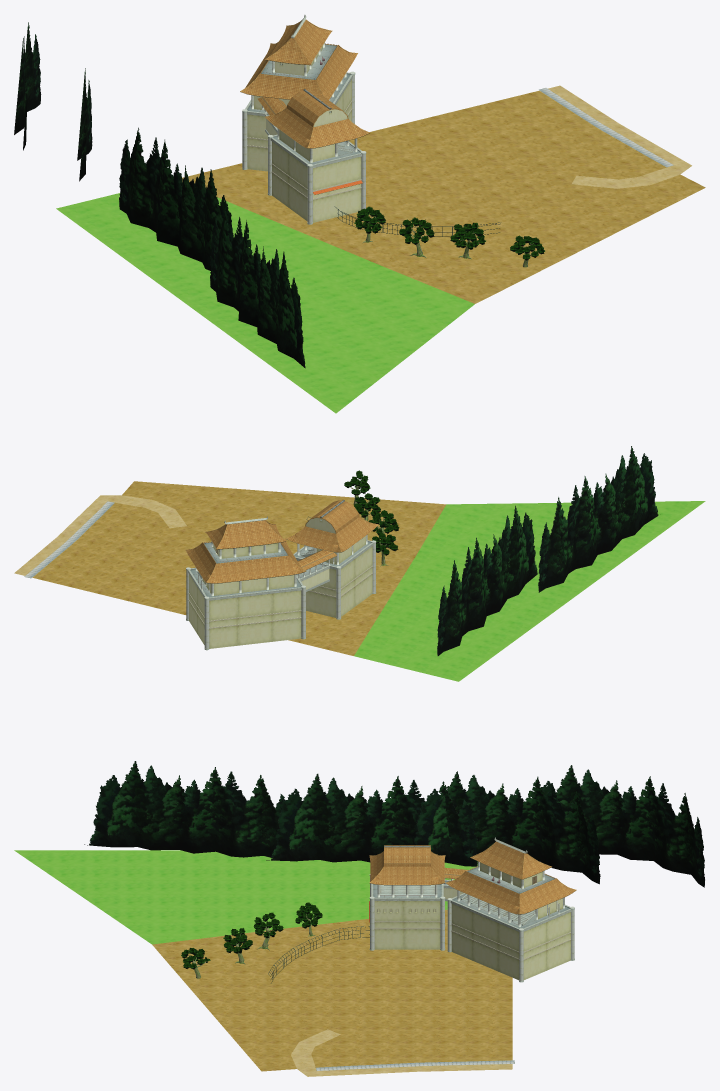
3 renders of one model, top to bottom at view 1: azimuth 30°, elevation 25°; view 2: azimuth 150°, elevation 25°; view 3: azimuth 270°, elevation 25°, orthographic. The views are drawn at different scales.
Visible parts, largest first — view 1: sa00hflo00_001, sa00hobj02_001, sa00zkic00_001, ha005_04_000; view 2: sa00hflo00_001, sa00hobj02_001, sa00zkic00_001, ha005_04_000; view 3: sa00hflo00_001, sa00zkic00_001, sa00hobj02_001, ha005_04_000, sa00hart00_001.
Part boxes in pixels (x1,y1,x2,y2): sa00hflo00_001: (56,85,705,413); sa00hobj02_001: (240,15,369,224); sa00zkic00_001: (14,22,305,368); ha005_04_000: (354,206,544,260); sa00hflo00_001: (14,481,705,681); sa00hobj02_001: (185,500,378,650); sa00zkic00_001: (437,446,658,655); ha005_04_000: (344,470,399,555); sa00hflo00_001: (14,850,514,1076); sa00zkic00_001: (84,761,704,887); sa00hobj02_001: (369,837,576,982); ha005_04_000: (181,902,322,969); sa00hart00_001: (268,926,369,983).
Size of the model in its own units: 161 by 38.05 by 208.
Materials: 18 (18 with a texture image).
